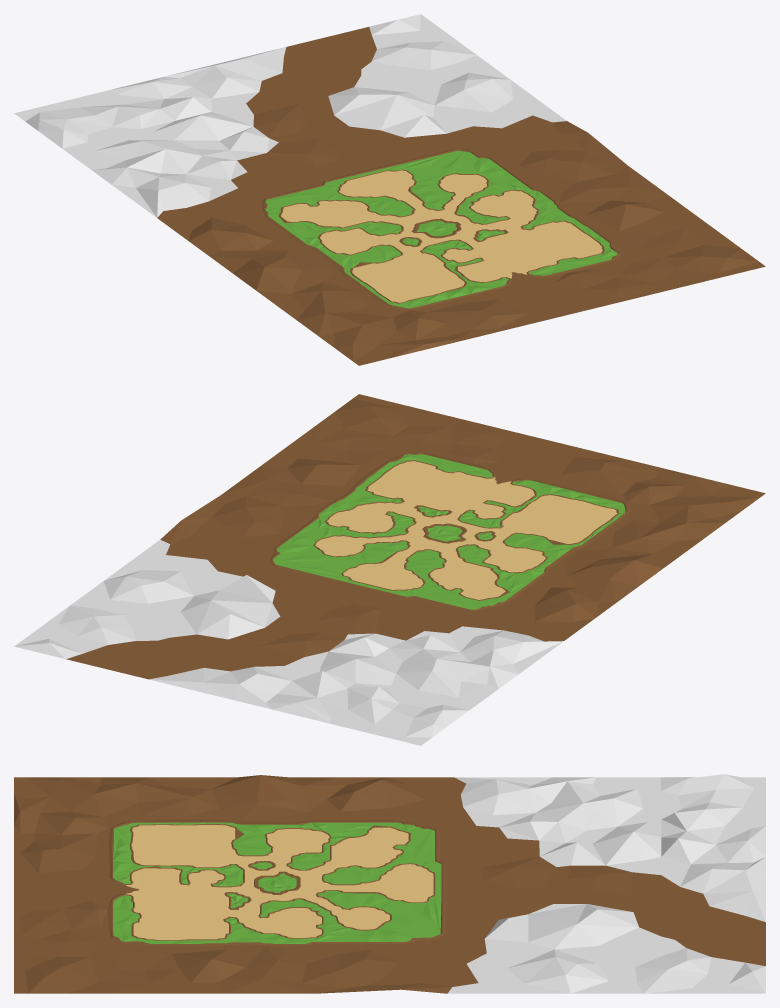
The model's file is Ground_Fort.fbx.
3 renders of one model, top to bottom at view 1: azimuth 30°, elevation 25°; view 2: azimuth 150°, elevation 25°; view 3: azimuth 270°, elevation 25°, orthographic. The views are drawn at different scales.
Parts seen in each view (by area): view 1: Fort_Ground; view 2: Fort_Ground; view 3: Fort_Ground.
Boxes of the visible parts, left/top/right/bottom form: Fort_Ground: left=14, top=14, right=765, bottom=365; Fort_Ground: left=14, top=394, right=765, bottom=745; Fort_Ground: left=14, top=774, right=765, bottom=993.
Bounding box in the file's own units: 40390 × 1444 × 59301.
